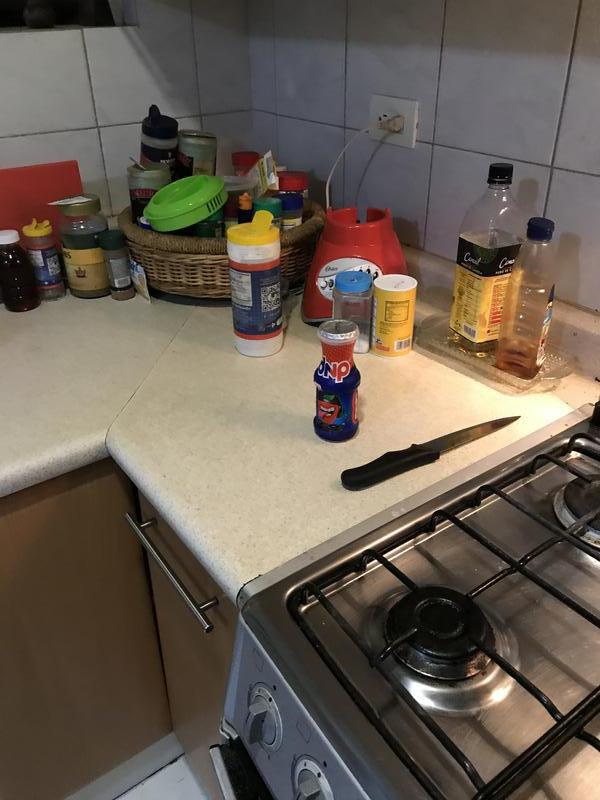danup: (311, 319, 362, 443)
